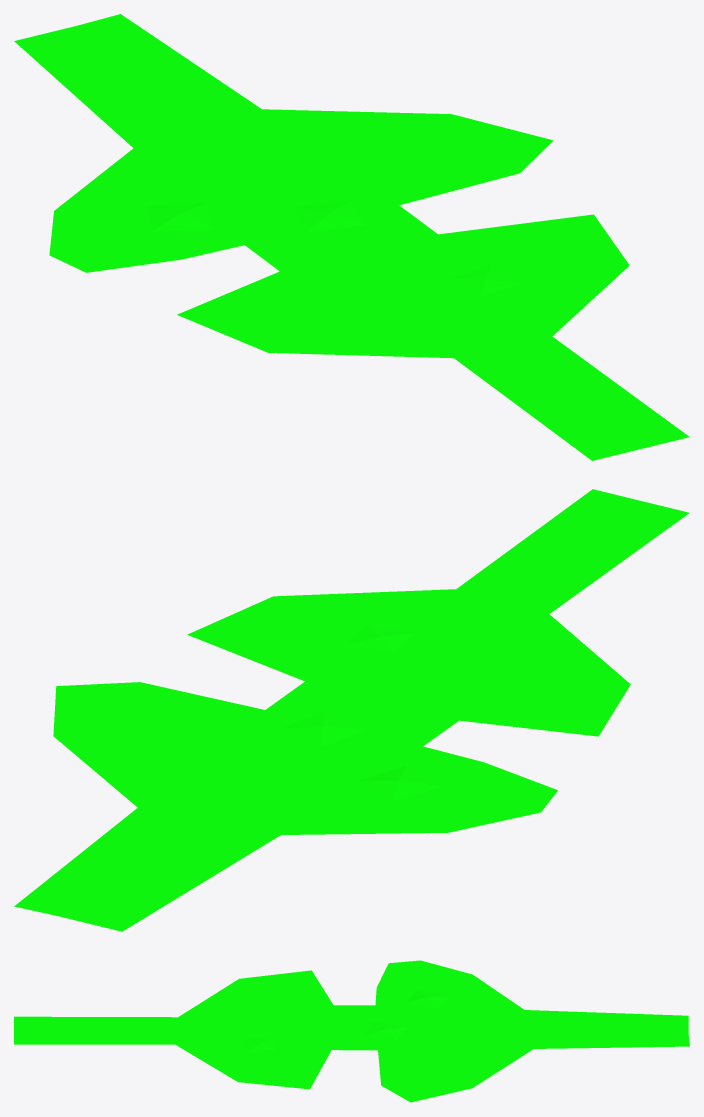
The model's file is s07a_ic3-floor.glb.
The picture shows the model from 3 angles, top to bottom: view 1: azimuth 30°, elevation 25°; view 2: azimuth 150°, elevation 25°; view 3: azimuth 270°, elevation 25°; orthographic projection. The views are drawn at different scales.
Visible parts, largest first — view 1: collision_floor-colonly; view 2: collision_floor-colonly; view 3: collision_floor-colonly.
Boxes of the visible parts, x1=… form: collision_floor-colonly: x1=14, y1=14, x2=689, y2=460; collision_floor-colonly: x1=14, y1=489, x2=689, y2=931; collision_floor-colonly: x1=14, y1=960, x2=689, y2=1102.
Size of the model in its own units: 30.4 by 0.207 by 61.12.
